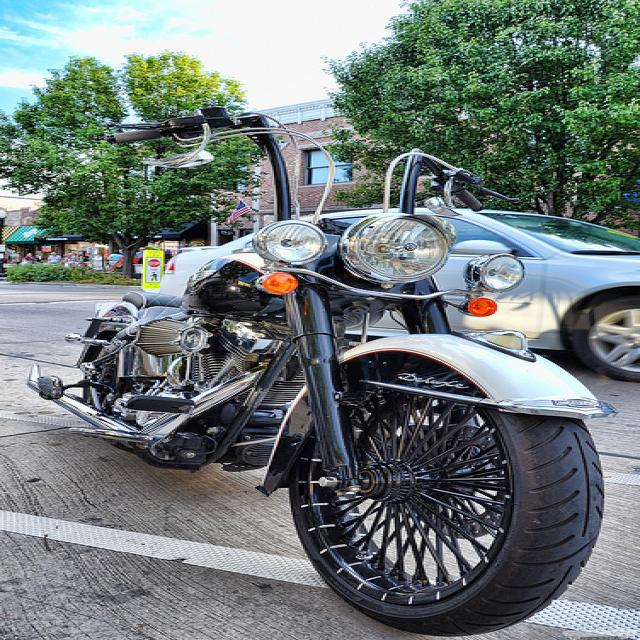motor: (42, 107, 605, 630)
